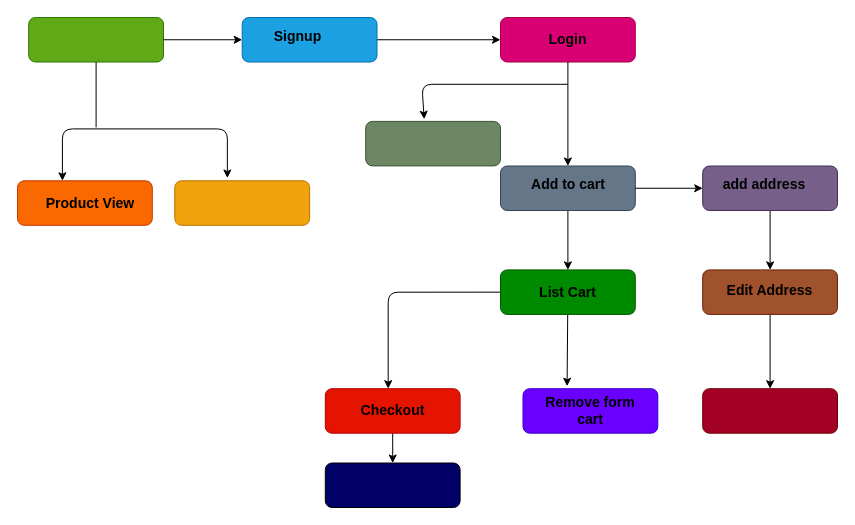
Image size: 855x525. Some labels were removed from this diagram. Each missing label, with the centre of its shape:
Add Products: pixel 432 143
Delete Address: pixel 770 410
Instant Pay: pixel 392 485
Search Products: pixel 242 202
User: pixel 96 39
